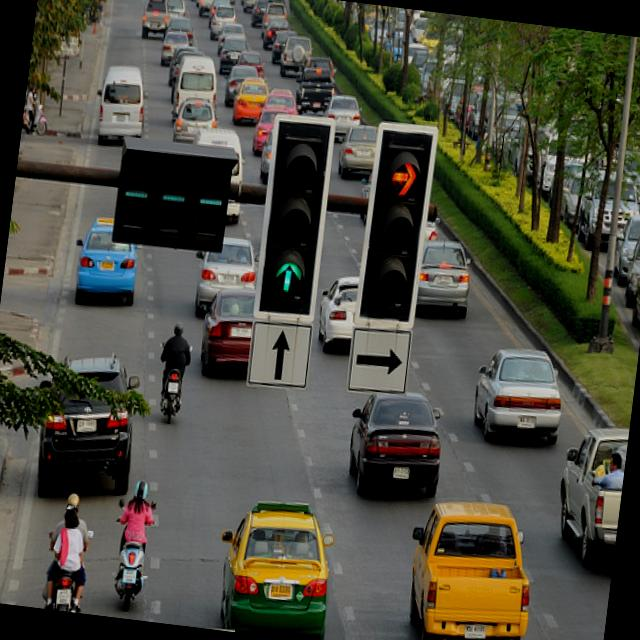Vehicle: (42, 0, 640, 372), (396, 492, 540, 640), (209, 491, 343, 640), (31, 348, 146, 506), (544, 416, 630, 574), (342, 384, 448, 502), (466, 340, 568, 448), (67, 212, 145, 315), (190, 284, 258, 383), (414, 236, 478, 322), (314, 271, 361, 357), (151, 340, 193, 424), (290, 63, 338, 118), (113, 539, 146, 616), (229, 74, 269, 128), (46, 566, 81, 612), (626, 249, 640, 337)
